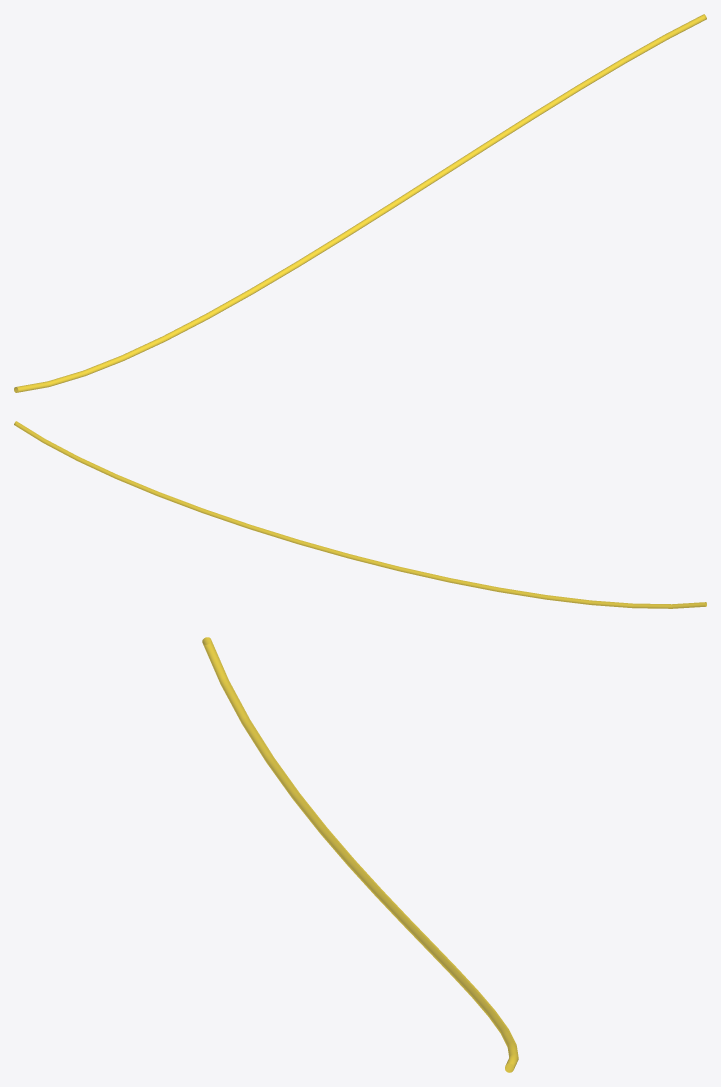
File: Event_84804159_track_46.fbx
3 renders of one model, top to bottom at view 1: azimuth 30°, elevation 25°; view 2: azimuth 150°, elevation 25°; view 3: azimuth 270°, elevation 25°, orthographic. The views are drawn at different scales.
Parts seen in each view (by area): view 1: Model; view 2: Model; view 3: Model.
Part boxes in pixels (left/top/right/bottom): Model: left=14, top=14, right=706, bottom=392; Model: left=14, top=421, right=706, bottom=608; Model: left=202, top=637, right=518, bottom=1072.
Bounding box in the file's own units: 6.05 × 0.9541 × 1.35.
